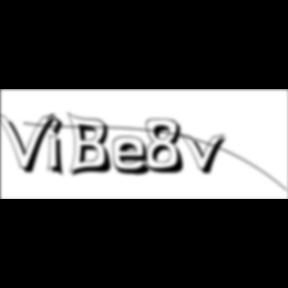8: (146, 117, 190, 176)
B: (67, 111, 117, 179)
V: (0, 110, 60, 176)
e: (113, 135, 159, 178)
i: (47, 112, 71, 180)
v: (179, 131, 233, 177)
